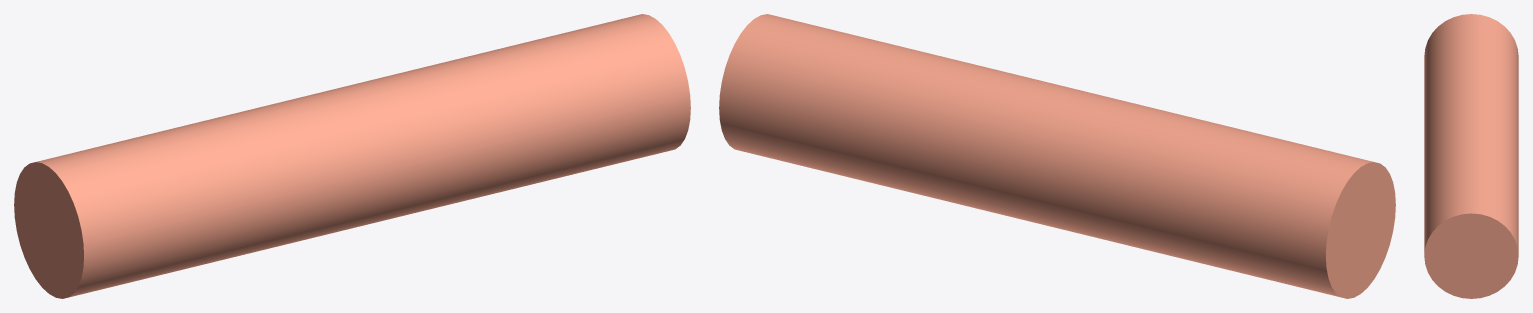
Rendered from TumbleSat1.obj.
3 views of the same model, side by side, from view 1: azimuth 30°, elevation 25°; view 2: azimuth 150°, elevation 25°; view 3: azimuth 270°, elevation 25° (orthographic). The views are drawn at different scales.
Parts seen in each view (by area): view 1: cylinder2; view 2: cylinder2; view 3: cylinder2.
Part boxes in pixels (box(x1,y1,x2,y2)): cylinder2: box(14, 14, 690, 298); cylinder2: box(719, 14, 1395, 298); cylinder2: box(1424, 14, 1518, 298).
Size of the model in its own units: 1 by 0.2 by 0.2.
